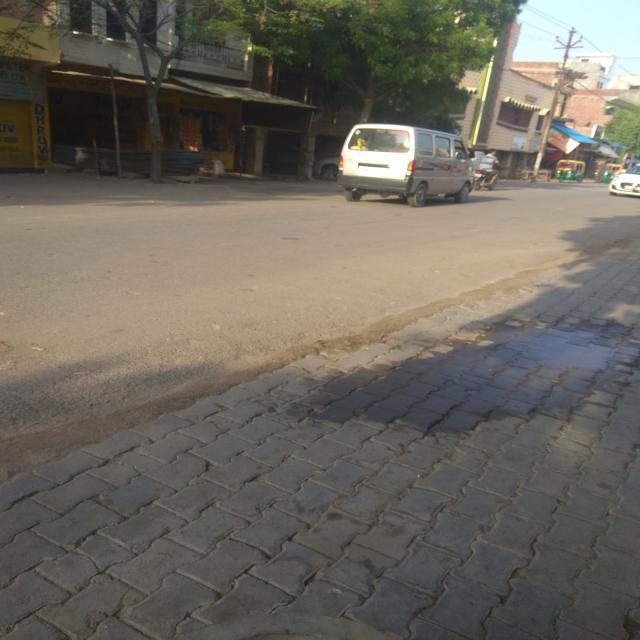auto_front: (552, 154, 588, 186)
car_back: (331, 119, 478, 212)
car_front: (604, 159, 640, 202)
